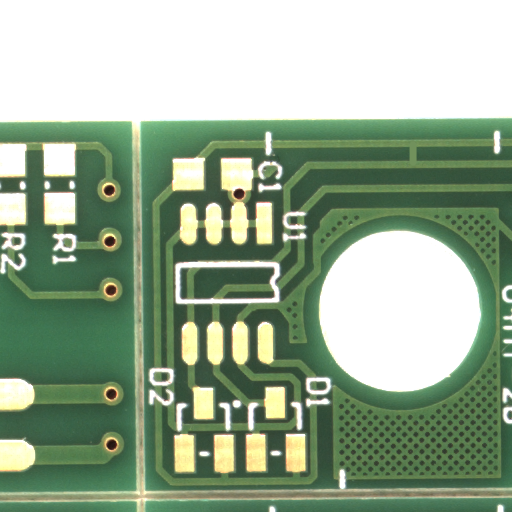Short: (413, 153, 427, 171)
